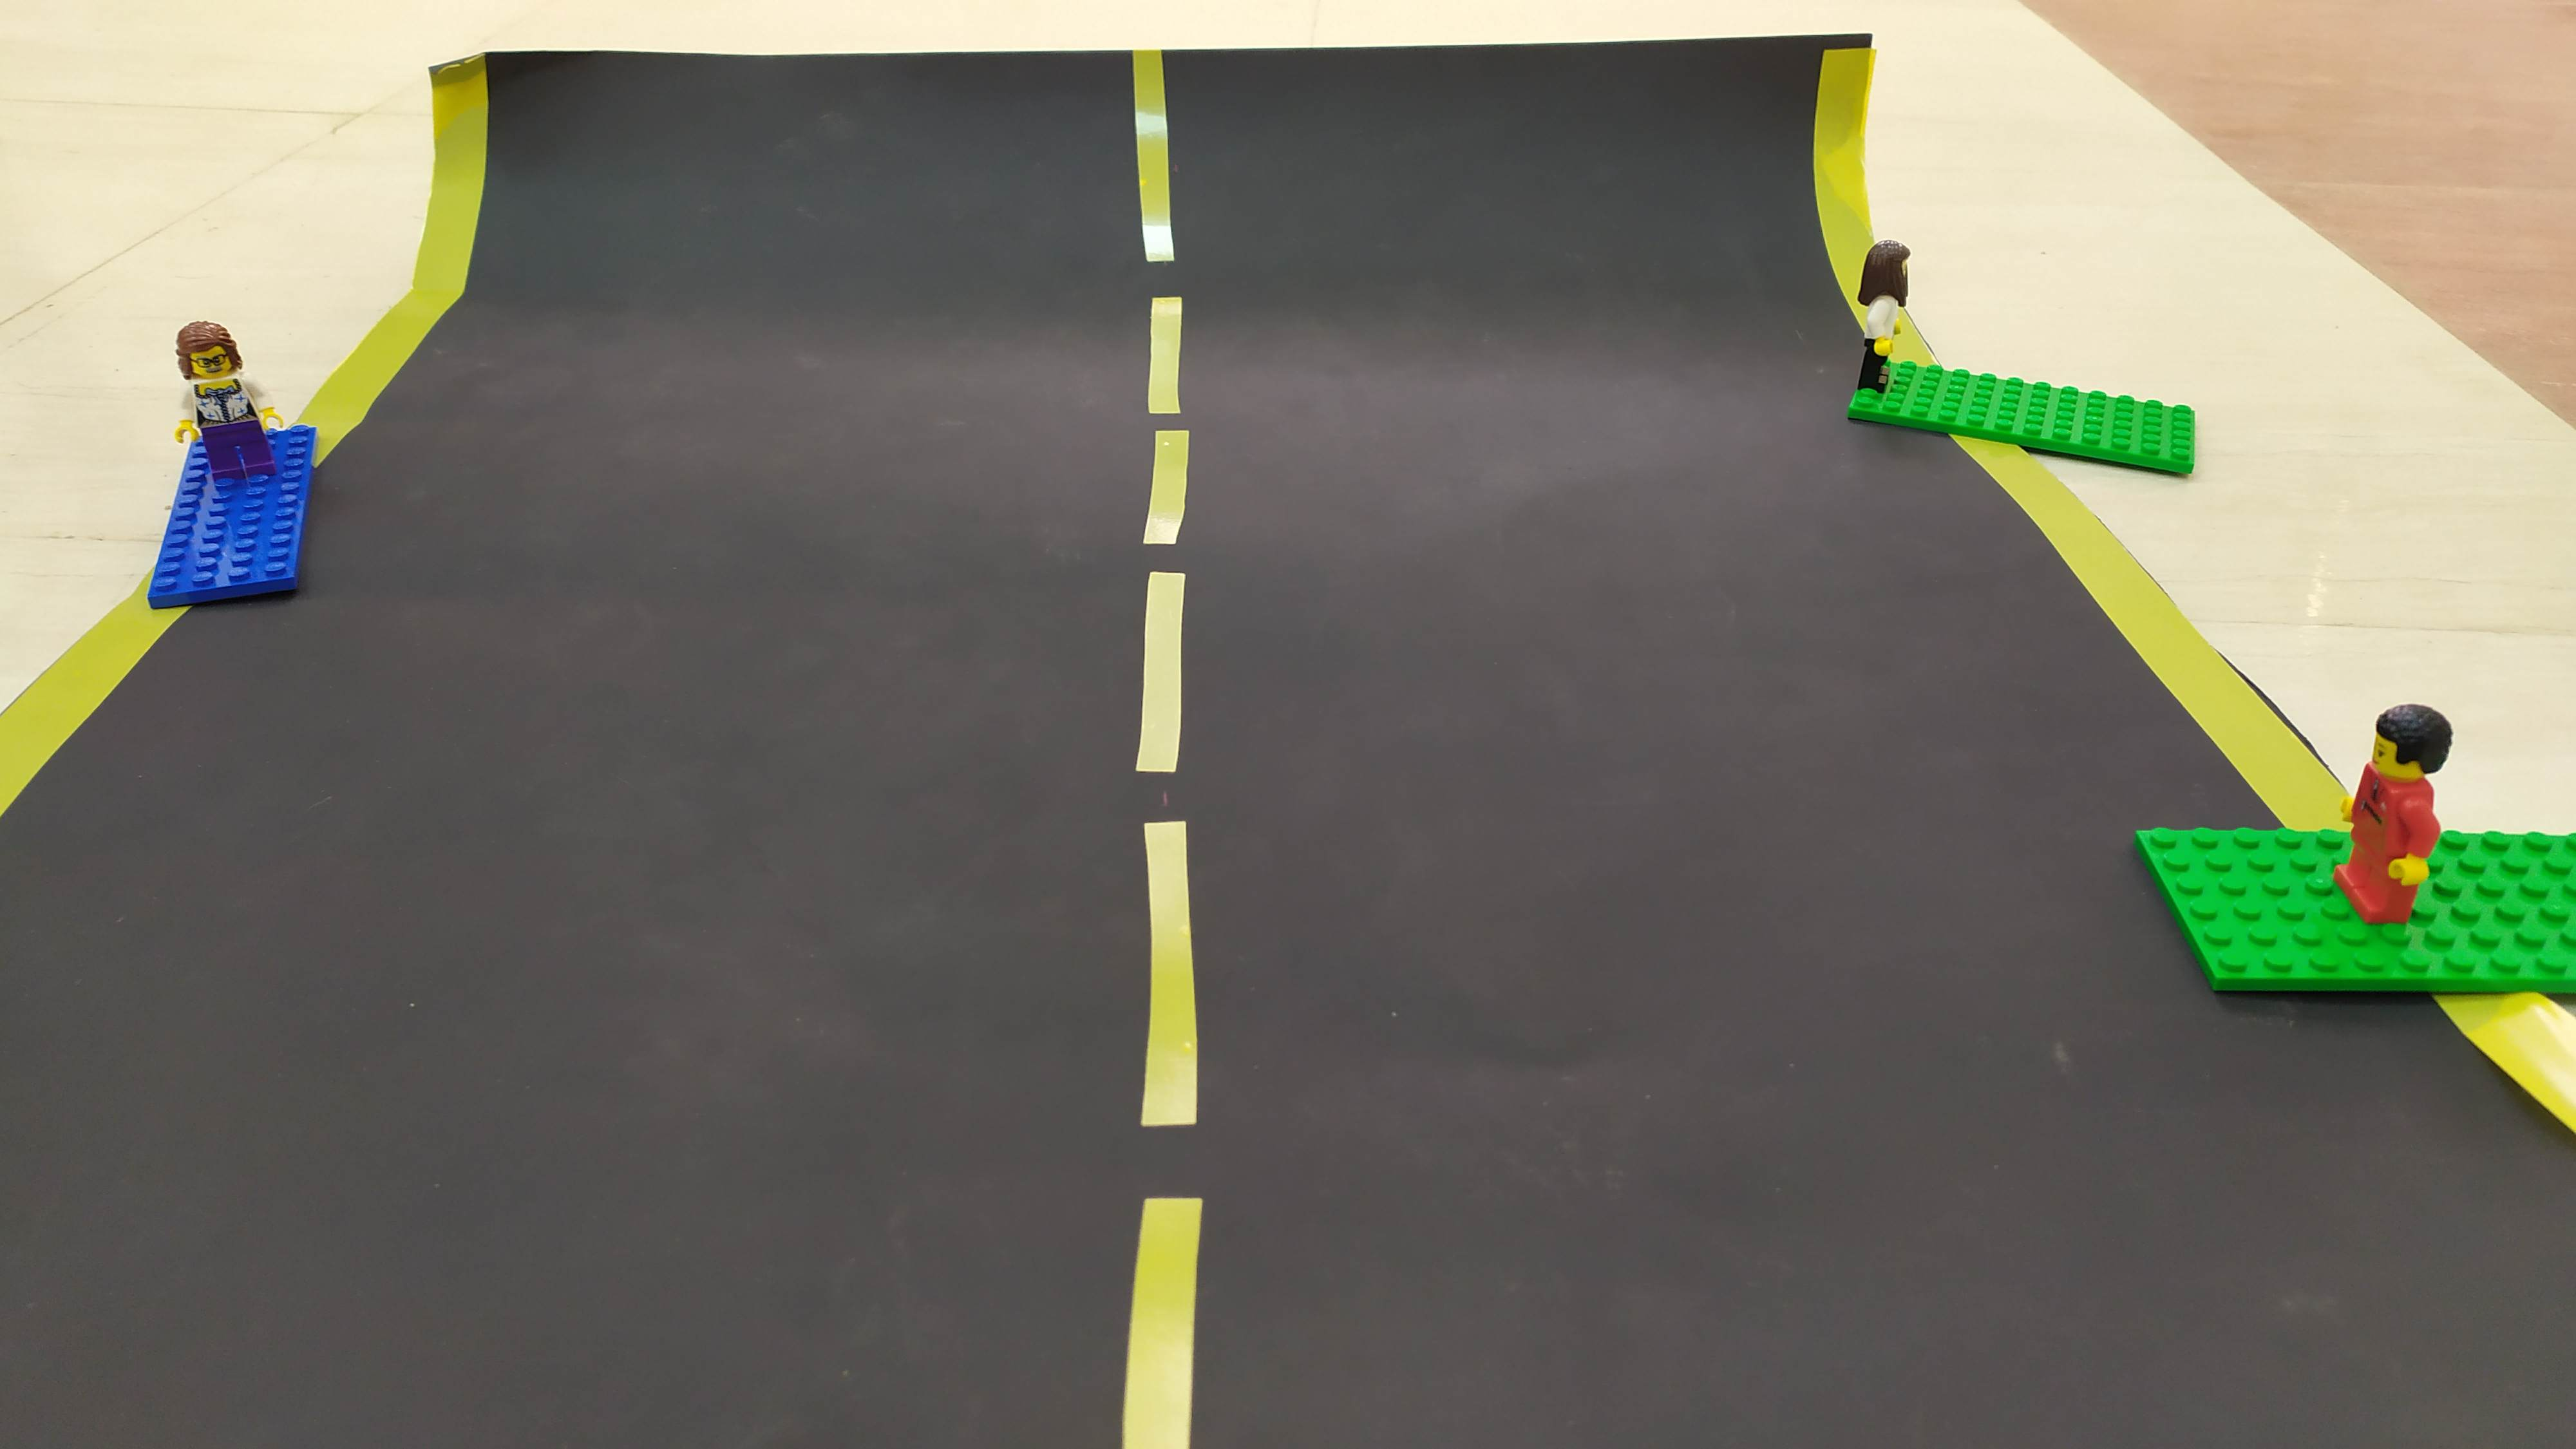Person: (2341, 712, 2476, 937), (158, 306, 293, 512), (1871, 241, 1942, 402)
